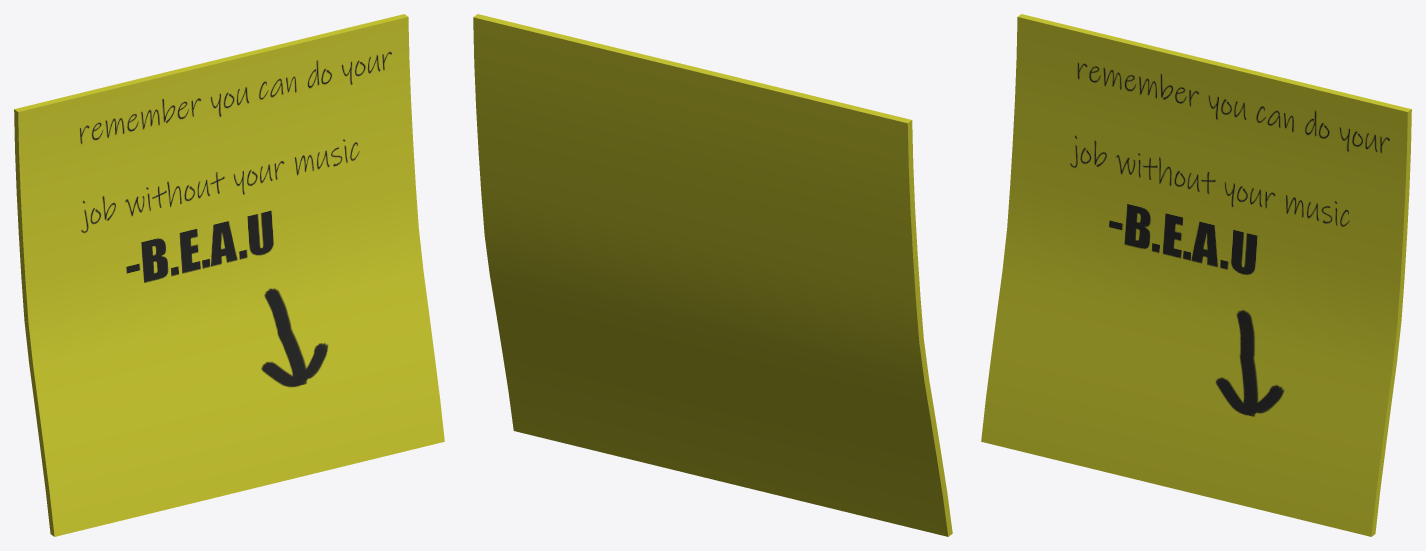
The model's file is cant do your job without music.fbx.
3 views of the same model, side by side, from view 1: azimuth 30°, elevation 25°; view 2: azimuth 150°, elevation 25°; view 3: azimuth 330°, elevation 25° (orthographic). The views are drawn at different scales.
Parts seen in each view (by area): view 1: pPlane1; view 2: pPlane1; view 3: pPlane1.
Boxes of the visible parts, x1,y1,x2,y2 form: pPlane1: [14, 14, 444, 536]; pPlane1: [473, 14, 952, 536]; pPlane1: [981, 14, 1411, 536].
Bounding box in the file's own units: 8.93 × 8.7 × 1.6.
